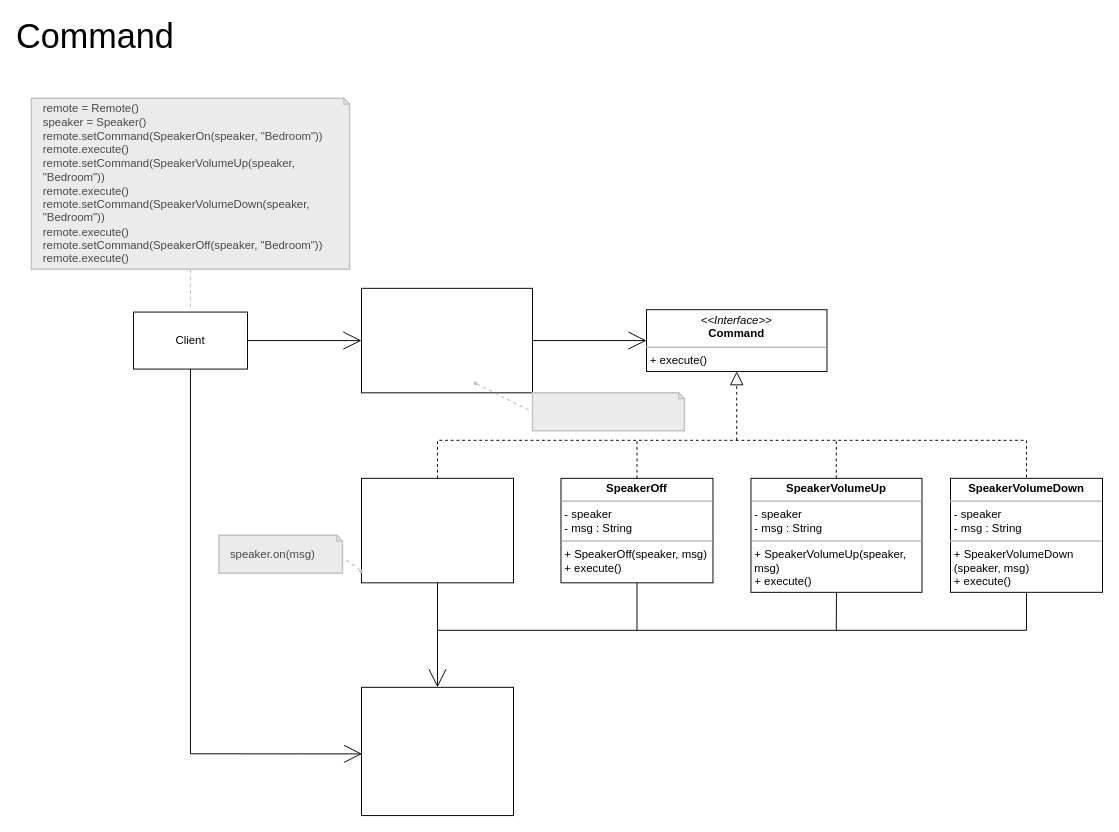
This 1119x832 diagram has some shape labels left out. Here are the shapes that lost their labels. From the top down, the centre of each, then its label:
At pixel 446 340: "Remote - command + Remote() + setCommand(command, msg) + executeCommand()".
At pixel 608 411: "command.execute()".
At pixel 437 530: "SpeakerOn - speaker - msg : String + SpeakerOn(speaker, msg) + execute()".
At pixel 437 751: "Speaker + Speaker() + on(msg) + off(msg) + volumeUp(msg) + volumeDown(msg)".
